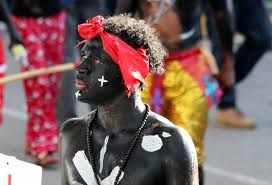no-mask: (65, 21, 154, 110)
